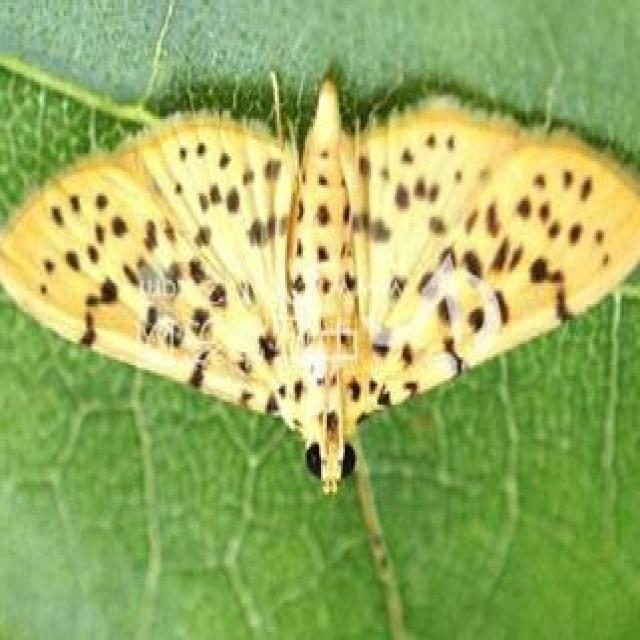peach borer: (1, 70, 639, 498)
